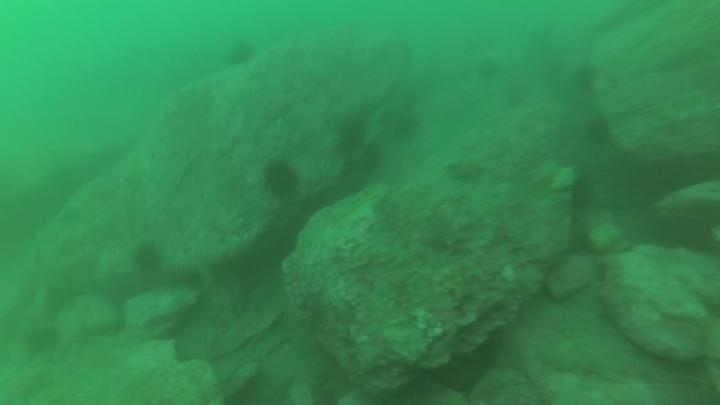echinus: (260, 158, 302, 200), (390, 110, 425, 146), (130, 241, 165, 277), (224, 37, 262, 70), (583, 114, 614, 148), (336, 117, 367, 151), (573, 64, 604, 96), (503, 84, 529, 110), (476, 59, 502, 84)
starfish: (444, 156, 490, 185)
